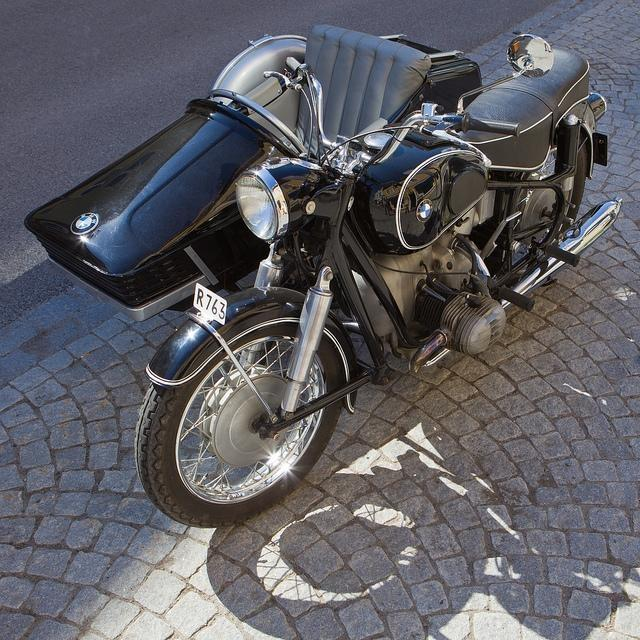motorcycle: (28, 17, 626, 538)
